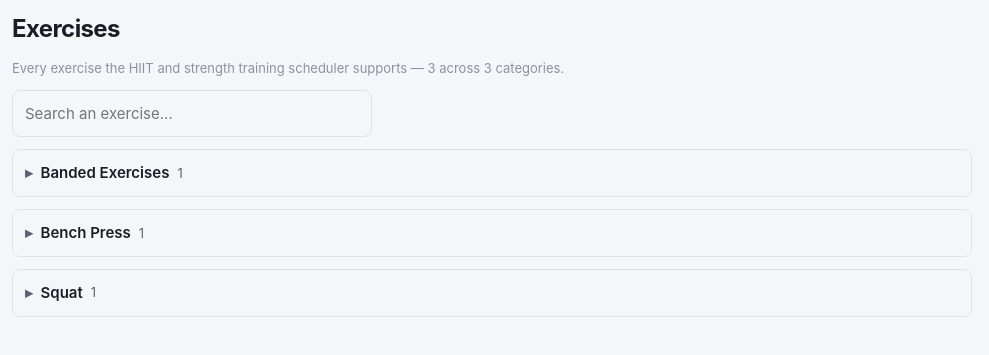
ExerciseLibraryPage › searching filters exercises and auto-expands matching categories
The width and height of the screenshot is (989, 355).
Expected: the heading "Bench Press 1" is shown, [13,210,971,256]
Type "squat" into the search field with placeholder "Search an exercise…" at [192, 114], box [12,90,372,137]
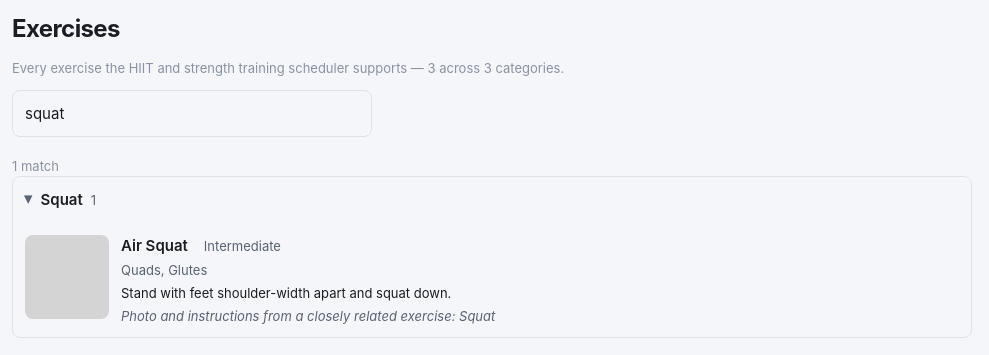
Expected: the heading "Bench Press" is gone
Expected: the text "1 match" is shown, [12,158,59,174]
